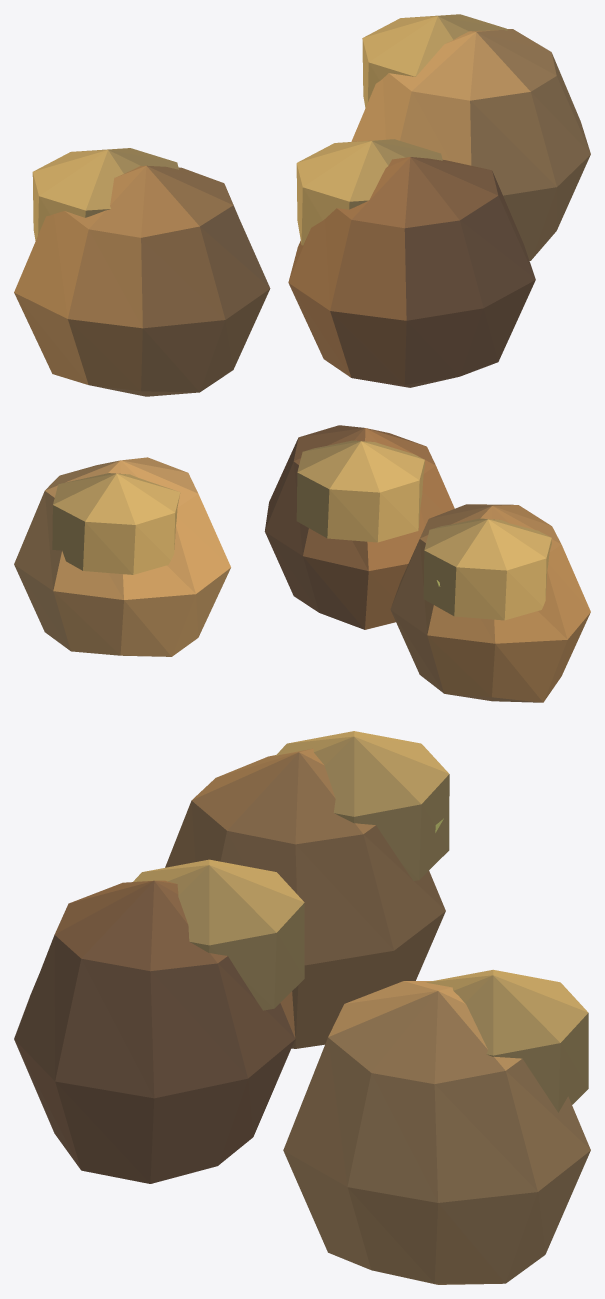
File: find_hazel.glb
3 renders of one model, top to bottom at view 1: azimuth 30°, elevation 25°; view 2: azimuth 150°, elevation 25°; view 3: azimuth 270°, elevation 25°, orthographic. The views are drawn at different scales.
Parts seen in each view (by area): view 1: Farnwald · Haselnüsse; view 2: Farnwald · Haselnüsse; view 3: Farnwald · Haselnüsse.
Part boxes in pixels (x1=…): Farnwald · Haselnüsse: x1=14, y1=14, x2=590, y2=396; Farnwald · Haselnüsse: x1=14, y1=425, x2=590, y2=702; Farnwald · Haselnüsse: x1=14, y1=731, x2=590, y2=1284.
Bounding box in the file's own units: 0.6088 × 0.228 × 0.3984.
